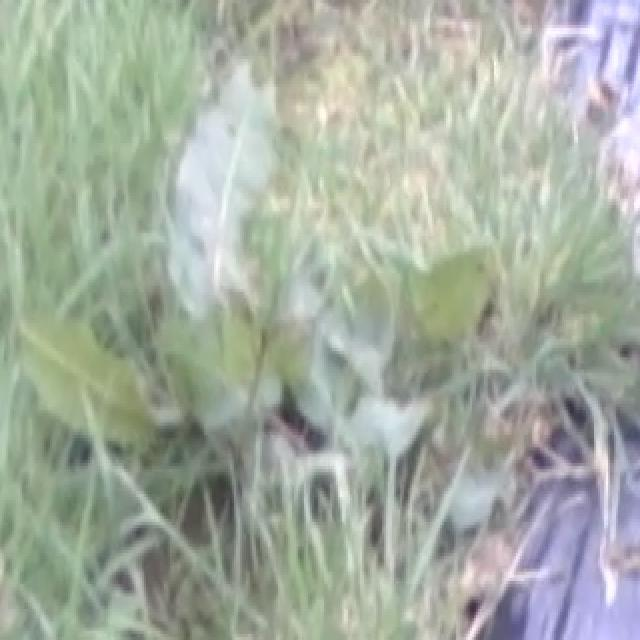organic waste: (0, 49, 532, 515)
